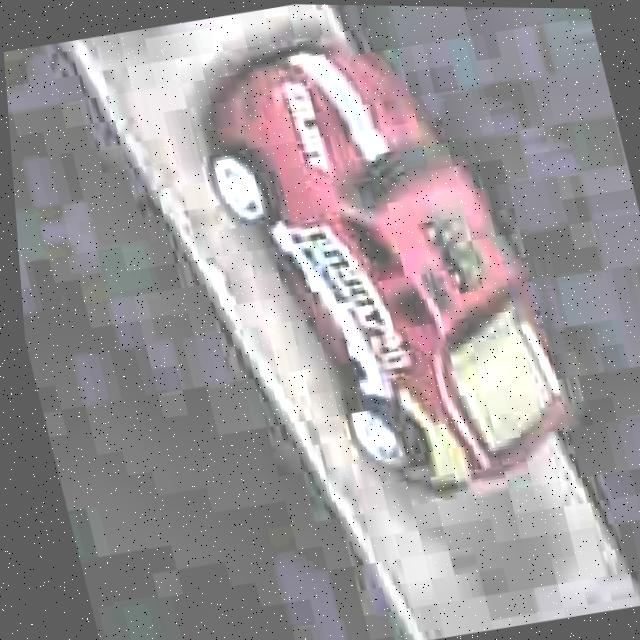car: (176, 12, 595, 527)
